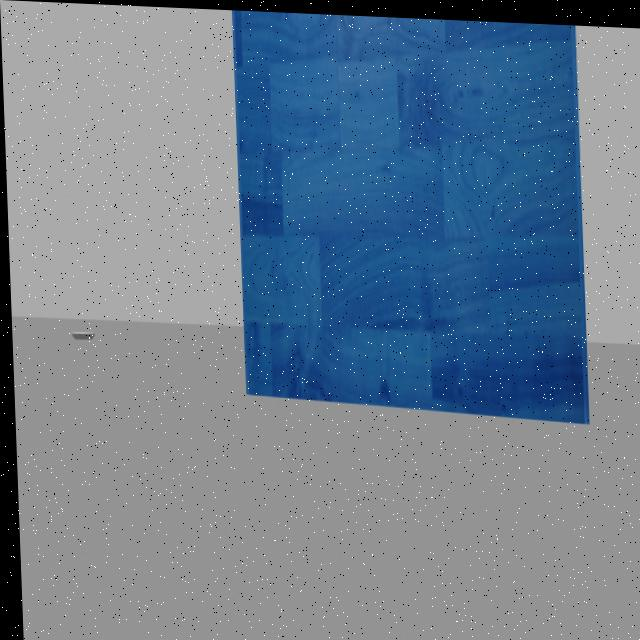bowl: (65, 323, 101, 346)
shelf: (219, 8, 596, 431)
